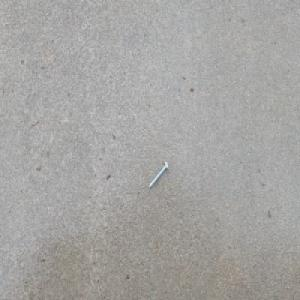Nail: (147, 160, 168, 190)
